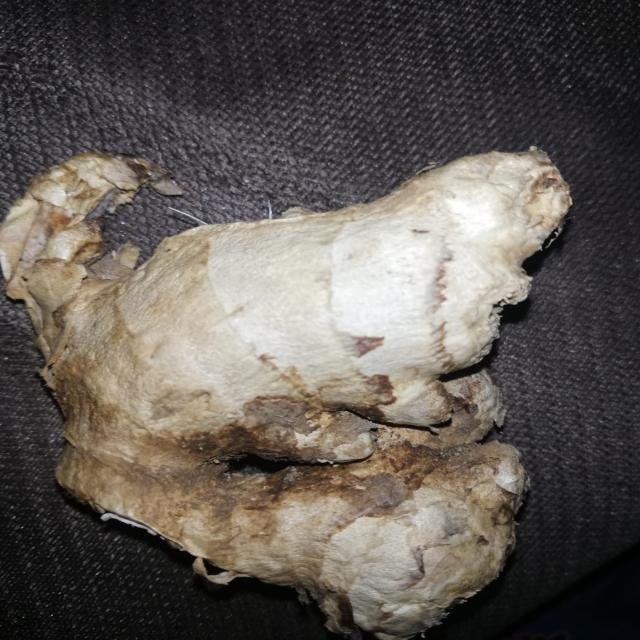ginger: (50, 168, 598, 622)
